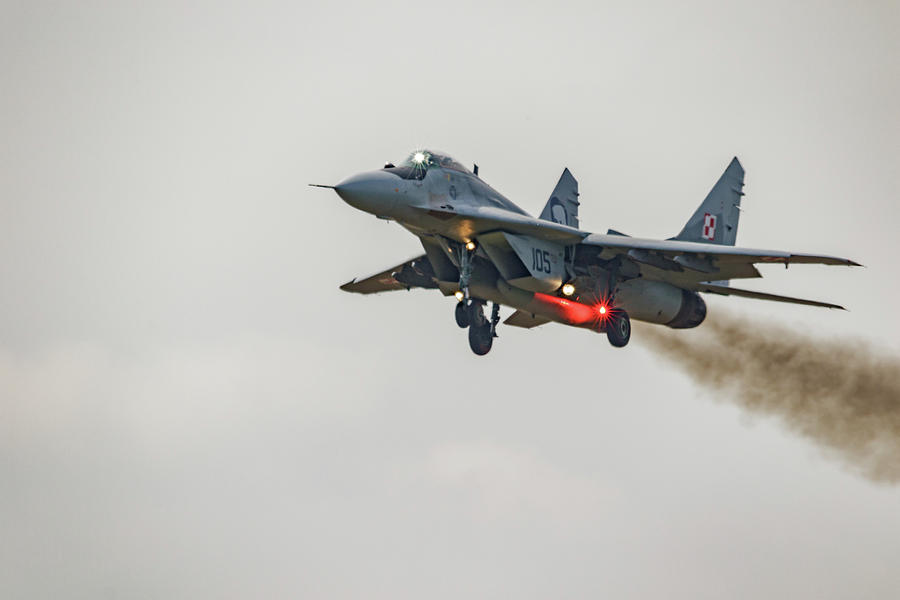Mig-29: (307, 105, 851, 378)
